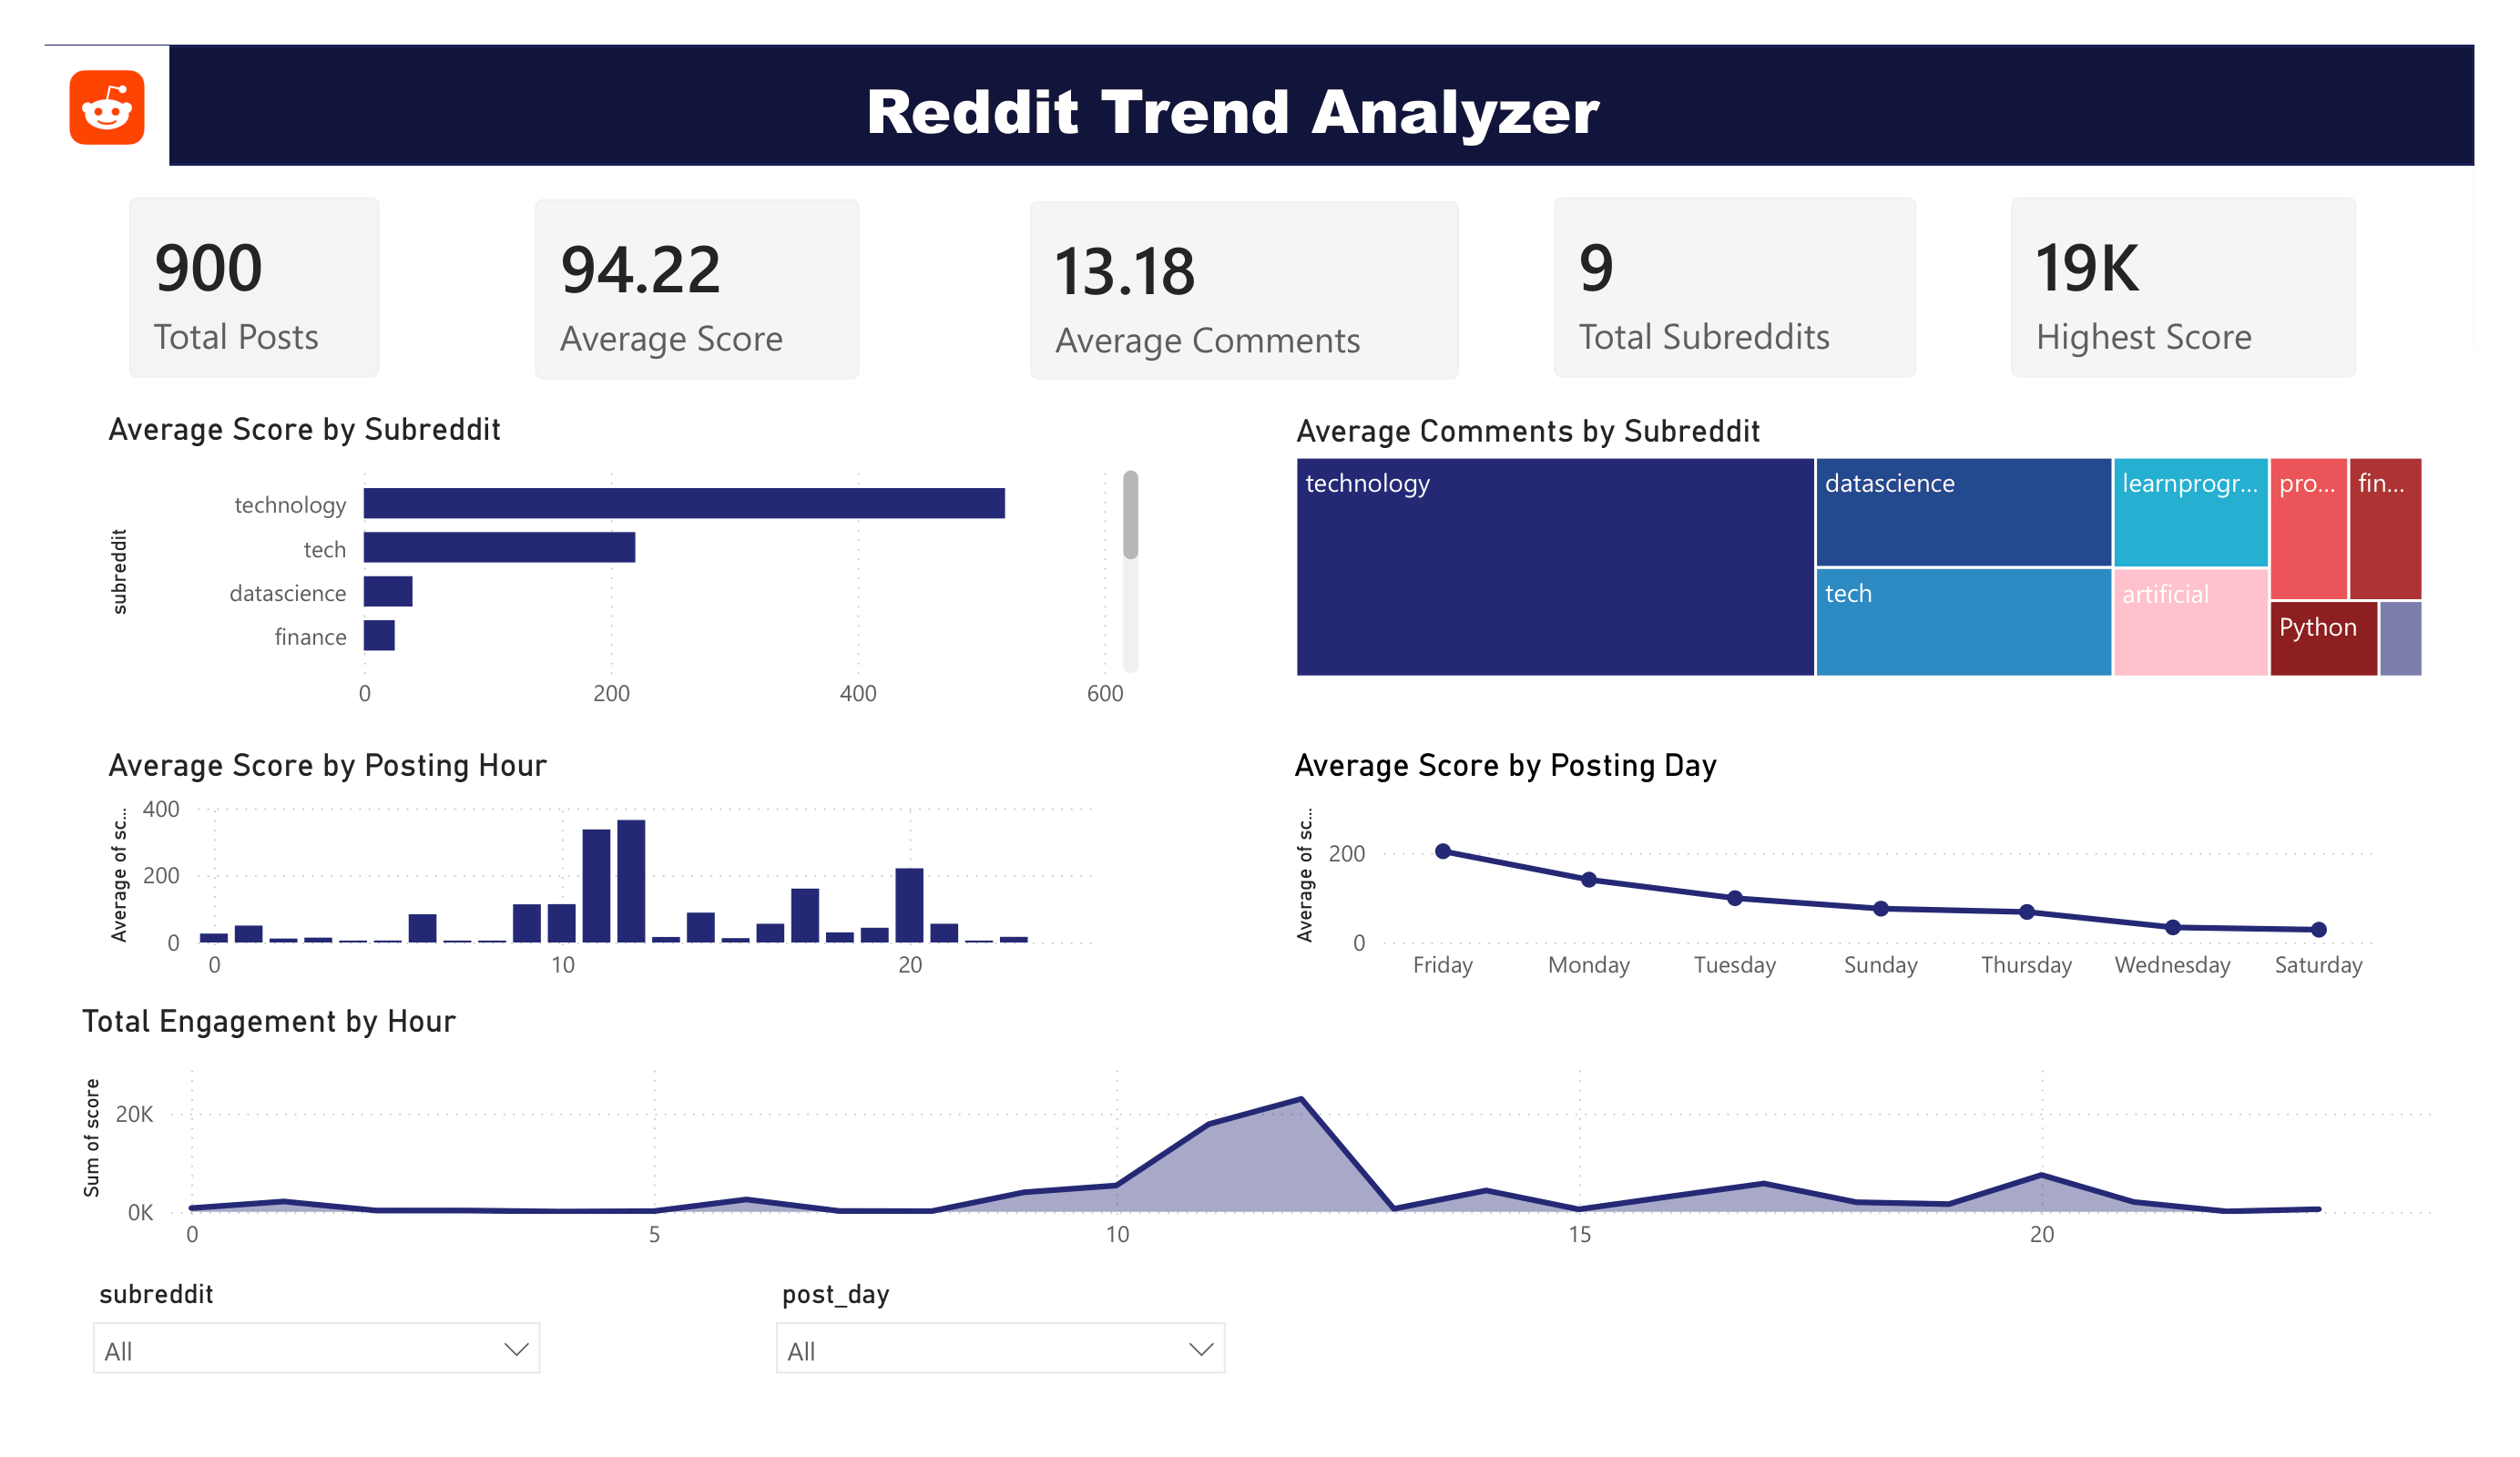

The dashboard page shown, as its layout file describes it:
{"tool":"powerbi","page":{"name":"Dashboard","canvas":[1280,720],"ordinal":0},"visuals":[{"type":"cardVisual","fields":{"Data":["CountNonNull(reddit_data_clean.subreddit)"]},"box":[27.4,63.5,165.9,128.4],"z":0},{"type":"cardVisual","fields":{"Data":["Avg(reddit_data_clean.score)"]},"box":[240.8,64.1,205,129.3],"z":1000},{"type":"cardVisual","fields":{"Data":["Avg(reddit_data_clean.num_comments)"]},"box":[502.1,64.9,259.7,128.4],"z":2000},{"type":"cardVisual","fields":{"Data":["Count(reddit_data_clean.subreddit)"]},"box":[777.6,63.5,225.1,128.4],"z":3000},{"type":"cardVisual","fields":{"Data":["Max(reddit_data_clean.score)"]},"box":[1018.8,63.1,216.6,129.3],"z":4000},{"type":"clusteredBarChart","title":"Average Score by Subreddit","fields":{"Category":["reddit_data_clean.subreddit"],"Y":["Avg(reddit_data_clean.score)"]},"box":[27.6,191.8,553.7,167.8],"z":5000},{"type":"treemap","title":"Average Comments by Subreddit","fields":{"Group":["reddit_data_clean.subreddit"],"Values":["Avg(reddit_data_clean.num_comments)"]},"box":[653.6,193.3,604.5,144.3],"z":6000},{"type":"clusteredColumnChart","title":"Average Score by Posting Hour","fields":{"Category":["reddit_data_clean.post_hour"],"Y":["Avg(reddit_data_clean.score)"]},"box":[27.6,369.1,532.1,134.2],"z":7000},{"type":"lineChart","title":"Average Score by Posting Day","fields":{"Category":["reddit_data_clean.post_day"],"Y":["Avg(reddit_data_clean.score)"]},"box":[653.2,369.1,581.3,134.2],"z":8000},{"type":"slicer","fields":{"Values":["reddit_data_clean.subreddit"]},"box":[14.7,644.5,256.5,66.2],"z":9000},{"type":"slicer","fields":{"Values":["reddit_data_clean.post_day"]},"box":[375.4,644.5,256.5,66.2],"z":10000},{"type":"areaChart","title":"Total Engagement by Hour","fields":{"Category":["reddit_data_clean.post_hour"],"Y":["Sum(reddit_data_clean.score)"]},"box":[14.4,503.5,1248,141.4],"z":11000},{"type":"shape","box":[0,0,1279.7,63.5],"z":12000},{"type":"textbox","box":[426.7,6,451.8,57.5],"z":13000},{"type":"image","box":[0,0,64.7,64.7],"z":14000}]}

Visuals, with their boxes on the page's 1280x720 design canvas (x1, y1, x2, y2). These are canvas units, not pixel positions in the 2520x1457 screenshot, which may show the page scaled, cropped or inside an application window:
cardVisual - CountNonNull(reddit_data_clean.subreddit): bbox(27, 64, 193, 192)
cardVisual - Avg(reddit_data_clean.score): bbox(241, 64, 446, 193)
cardVisual - Avg(reddit_data_clean.num_comments): bbox(502, 65, 762, 193)
cardVisual - Count(reddit_data_clean.subreddit): bbox(778, 64, 1003, 192)
cardVisual - Max(reddit_data_clean.score): bbox(1019, 63, 1235, 192)
"Average Score by Subreddit" clusteredBarChart: bbox(28, 192, 581, 360)
"Average Comments by Subreddit" treemap: bbox(654, 193, 1258, 338)
"Average Score by Posting Hour" clusteredColumnChart: bbox(28, 369, 560, 503)
"Average Score by Posting Day" lineChart: bbox(653, 369, 1234, 503)
slicer - reddit_data_clean.subreddit: bbox(15, 644, 271, 711)
slicer - reddit_data_clean.post_day: bbox(375, 644, 632, 711)
"Total Engagement by Hour" areaChart: bbox(14, 504, 1262, 645)
shape: bbox(0, 0, 1280, 64)
textbox: bbox(427, 6, 878, 64)
image: bbox(0, 0, 65, 65)
